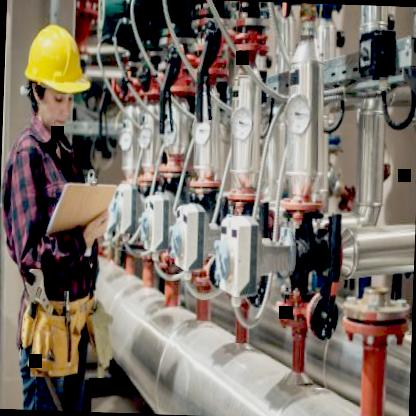helmet: (18, 14, 95, 145)
